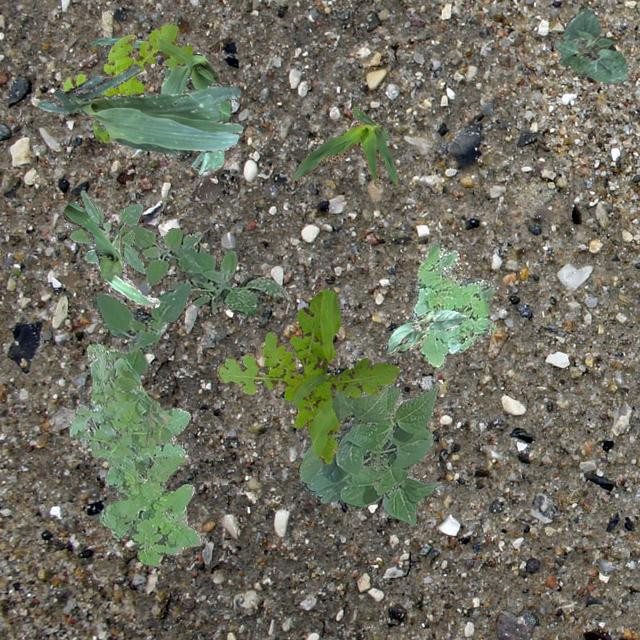crop: (300, 382, 440, 524), (88, 37, 228, 173), (36, 63, 242, 154), (62, 202, 160, 306), (290, 106, 400, 186), (68, 190, 144, 272), (554, 7, 626, 82), (384, 308, 466, 354)
weed: (215, 288, 398, 464), (91, 224, 288, 378), (68, 342, 202, 564), (61, 22, 192, 142), (410, 242, 496, 368)
